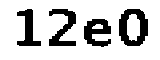0: (116, 5, 155, 49)
1: (12, 5, 42, 50)
2: (45, 5, 81, 49)
e: (83, 19, 115, 49)
